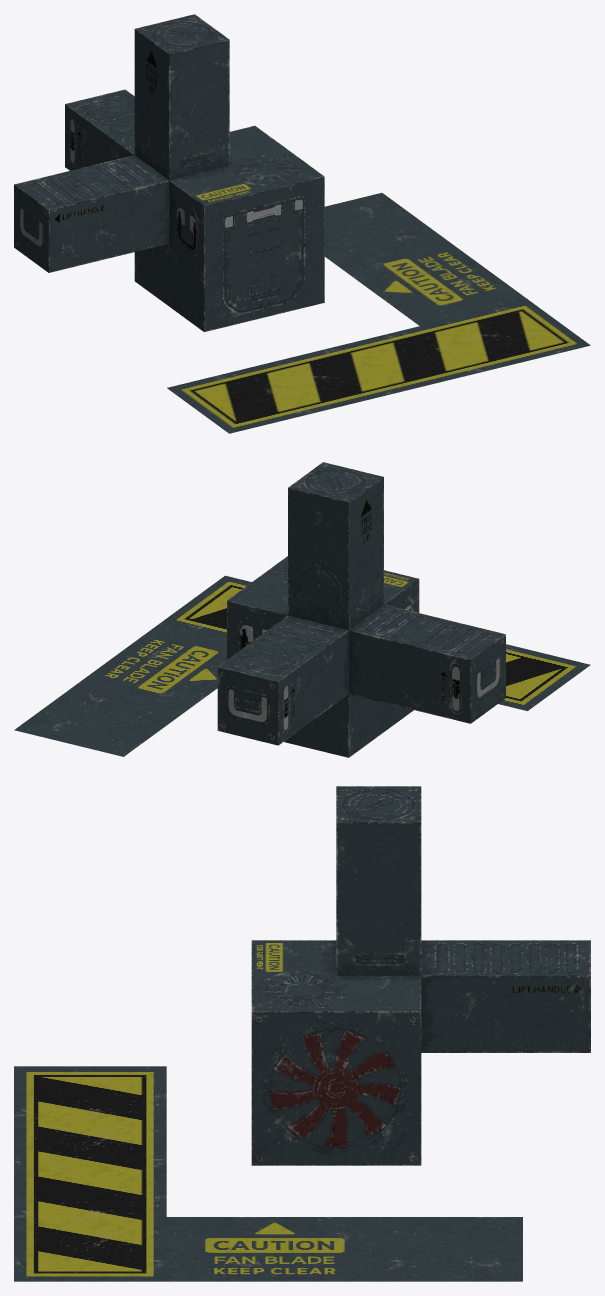
File: Node_Attribute_01.gltf
The picture shows the model from 3 angles, top to bottom: view 1: azimuth 30°, elevation 25°; view 2: azimuth 150°, elevation 25°; view 3: azimuth 270°, elevation 25°; orthographic projection. The views are drawn at different scales.
Visible parts, largest first — view 1: Node1, Node0; view 2: Node1, Node0; view 3: Node1, Node0.
Part boxes in pixels (left/top/right/bottom): Node1: left=14, top=14, right=324, bottom=331; Node0: left=167, top=193, right=590, bottom=433; Node1: left=217, top=462, right=505, bottom=757; Node0: left=14, top=575, right=590, bottom=756; Node1: left=251, top=786, right=590, bottom=1165; Node0: left=14, top=1066, right=522, bottom=1281.
Bounding box in the file's own units: 17 × 10.5 × 17.
Materials: 2 (2 with a texture image).
